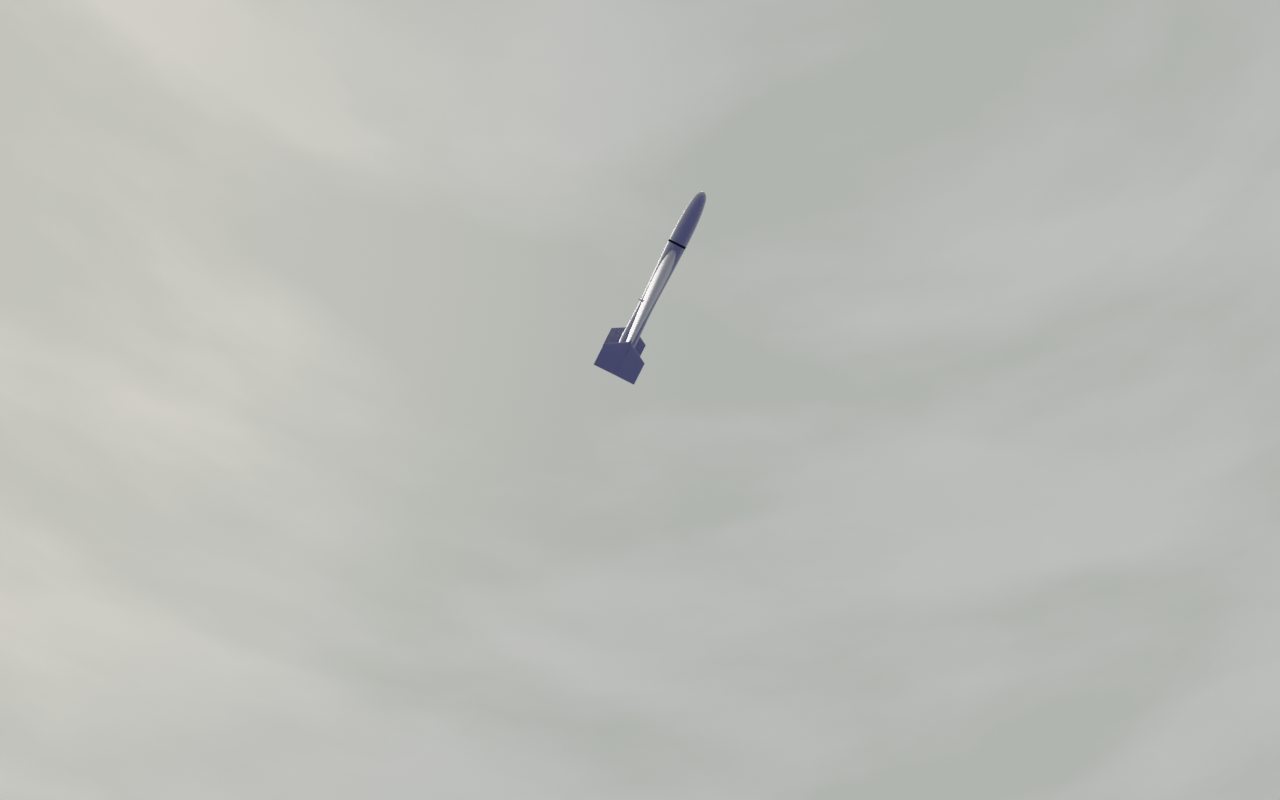shahed: (594, 191, 708, 387)
